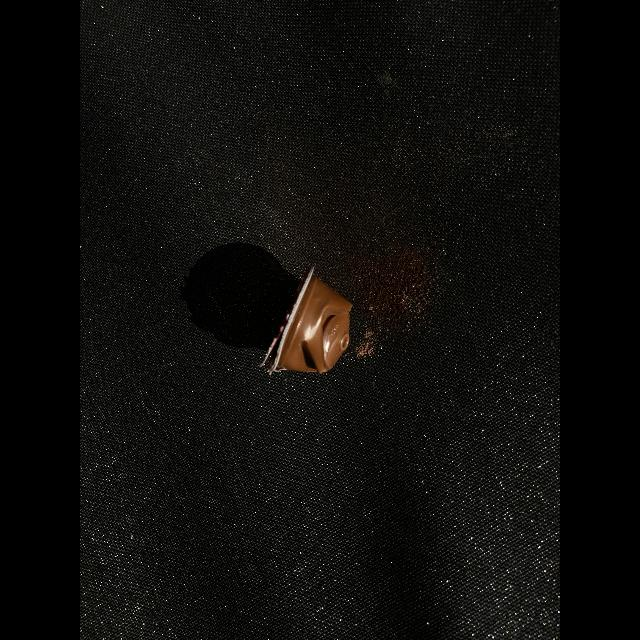damaged_capsule: (252, 258, 362, 384)
